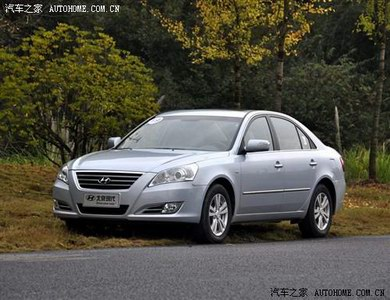car: (27, 100, 354, 276)
